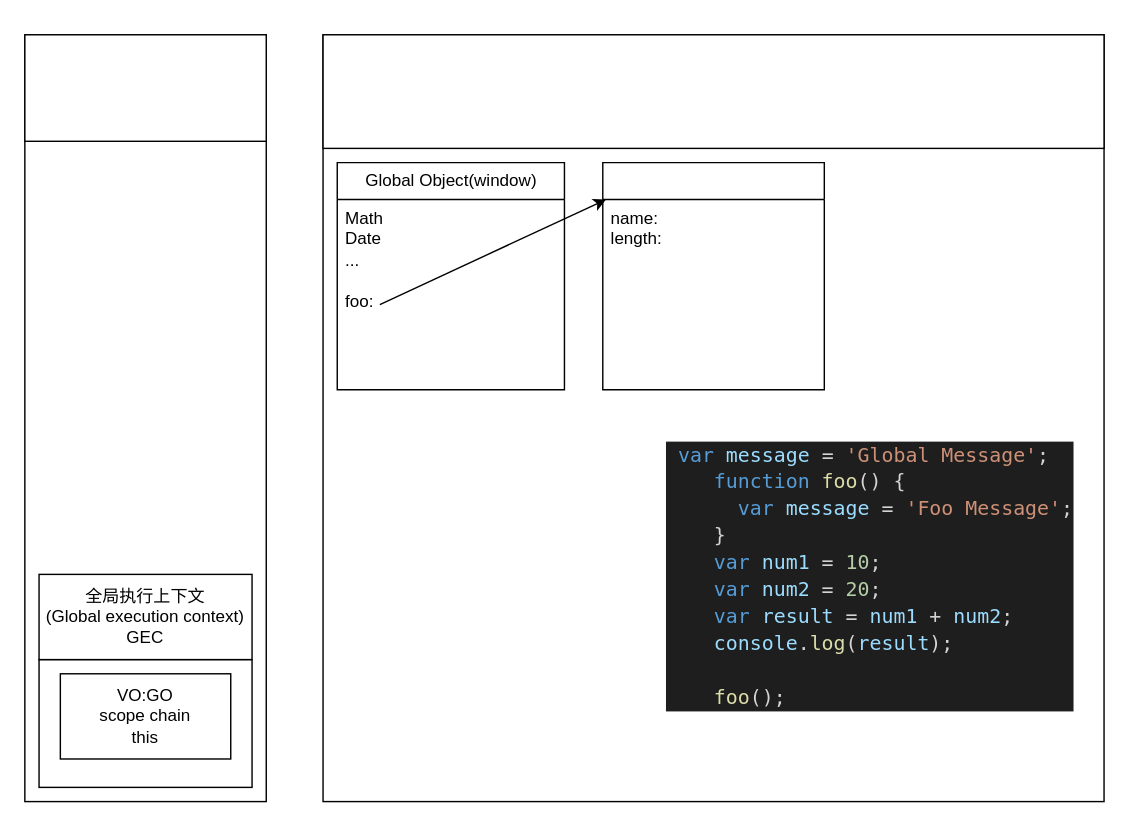
This 1129x826 diagram has some shape labels left out. The shapes that lost their labels are listed below. From the top down, each one's box as (x1, y1, x2, y2) in pixels, then its label:
(23, 33, 266, 141): 执行上下文栈 （Execution Context Stack) ECS
(601, 161, 824, 390): Function Object(foo)
